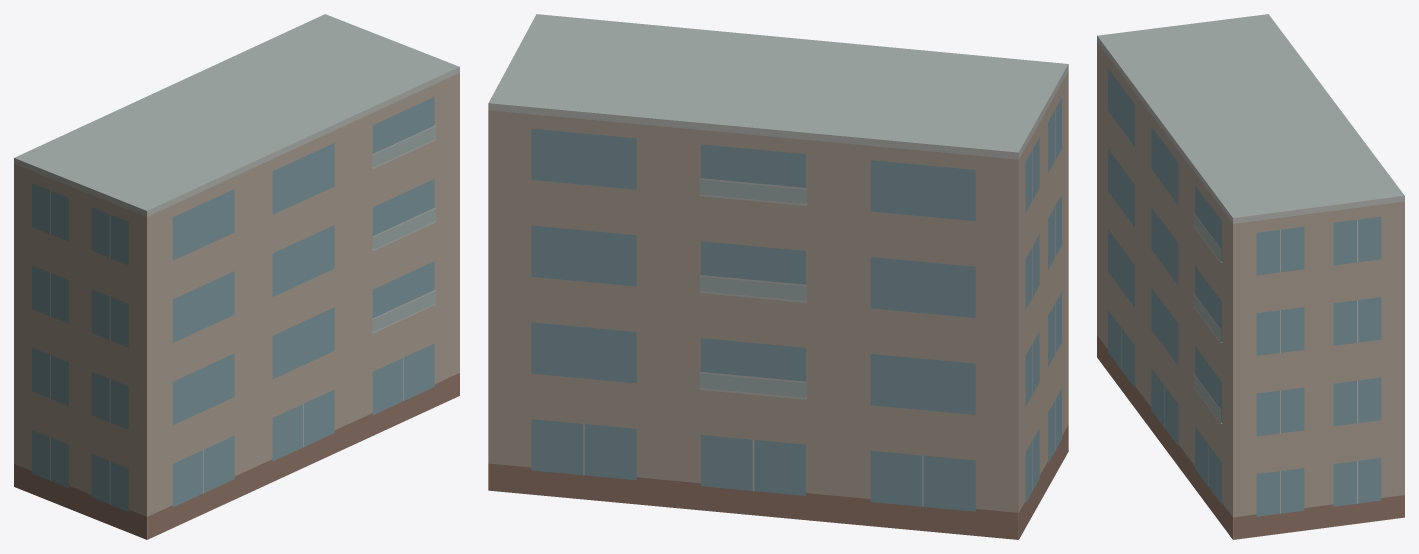
The model's file is survey-upis-32621174.glb.
3 renders of one model, left to right at view 1: azimuth 30°, elevation 25°; view 2: azimuth 150°, elevation 25°; view 3: azimuth 270°, elevation 25°, orthographic. The views are drawn at different scales.
Visible parts, largest first — view 1: survey-upis-32621174.tmp; view 2: survey-upis-32621174.tmp; view 3: survey-upis-32621174.tmp.
Boxes of the visible parts, <box> form: survey-upis-32621174.tmp: <box>14,14,459,539</box>; survey-upis-32621174.tmp: <box>488,14,1068,539</box>; survey-upis-32621174.tmp: <box>1097,14,1404,539</box>.
Bounding box in the file's own units: 18.38 × 13.5 × 11.71.
